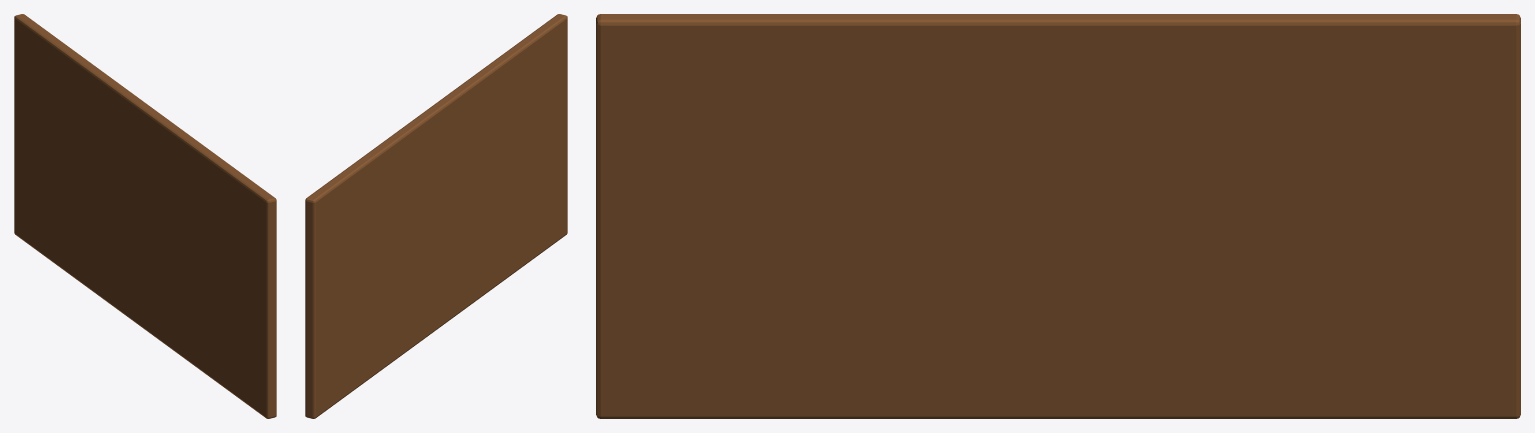
Rendered from door.obj.
The picture shows the model from 3 angles, left to right: view 1: azimuth 30°, elevation 25°; view 2: azimuth 150°, elevation 25°; view 3: azimuth 270°, elevation 25°; orthographic projection. The views are drawn at different scales.
Visible parts, largest first — view 1: door; view 2: door; view 3: door.
Boxes of the visible parts, x1,y1,x2,y2 form: door: (14, 14, 276, 418); door: (305, 14, 567, 418); door: (596, 14, 1520, 418).
Bounding box in the file's own units: 0.05 × 1 × 2.1.
